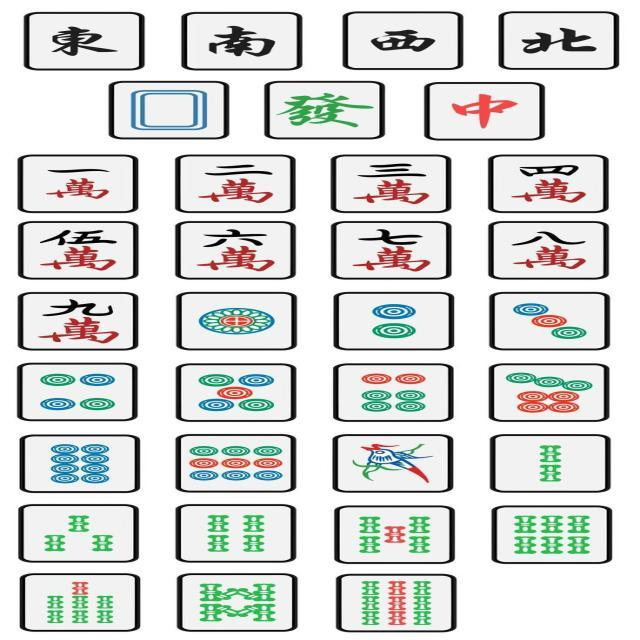hdg: (270, 83, 380, 136)
hdw: (122, 82, 218, 136)
hwe: (28, 15, 144, 68)
hwn: (501, 12, 615, 68), (426, 84, 544, 138)
hws: (189, 13, 295, 69)
hww: (348, 13, 464, 68)
sb1: (334, 437, 450, 492)
sb2: (496, 436, 604, 490)
sb3: (20, 506, 137, 562)
sb4: (178, 504, 294, 562)
sb5: (336, 507, 454, 562)
sb6: (504, 512, 608, 562)
sb7: (26, 576, 133, 629)
sb8: (181, 576, 296, 630)
sb9: (350, 576, 454, 632)
sc1: (21, 156, 134, 212)
sc2: (180, 157, 290, 211)
sc3: (334, 157, 445, 214)
sc4: (495, 157, 602, 213)
sc5: (22, 222, 130, 275)
sc6: (181, 223, 291, 278)
sc7: (338, 222, 451, 278)
sc8: (496, 223, 604, 277)
sc9: (29, 296, 130, 346)
sd1: (183, 295, 290, 349)
sd2: (338, 293, 455, 350)
sd3: (495, 294, 602, 348)
sd4: (28, 366, 134, 418)
sd5: (186, 367, 290, 419)
sd6: (342, 366, 448, 419)
sd7: (499, 366, 604, 414)
sd8: (21, 436, 135, 492)
sd9: (181, 436, 288, 492)
